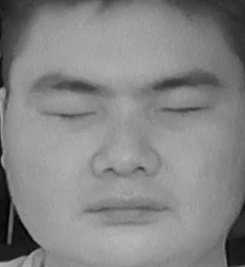blink: (38, 95, 94, 133), (157, 91, 206, 128)
mouth: (76, 183, 170, 233)
